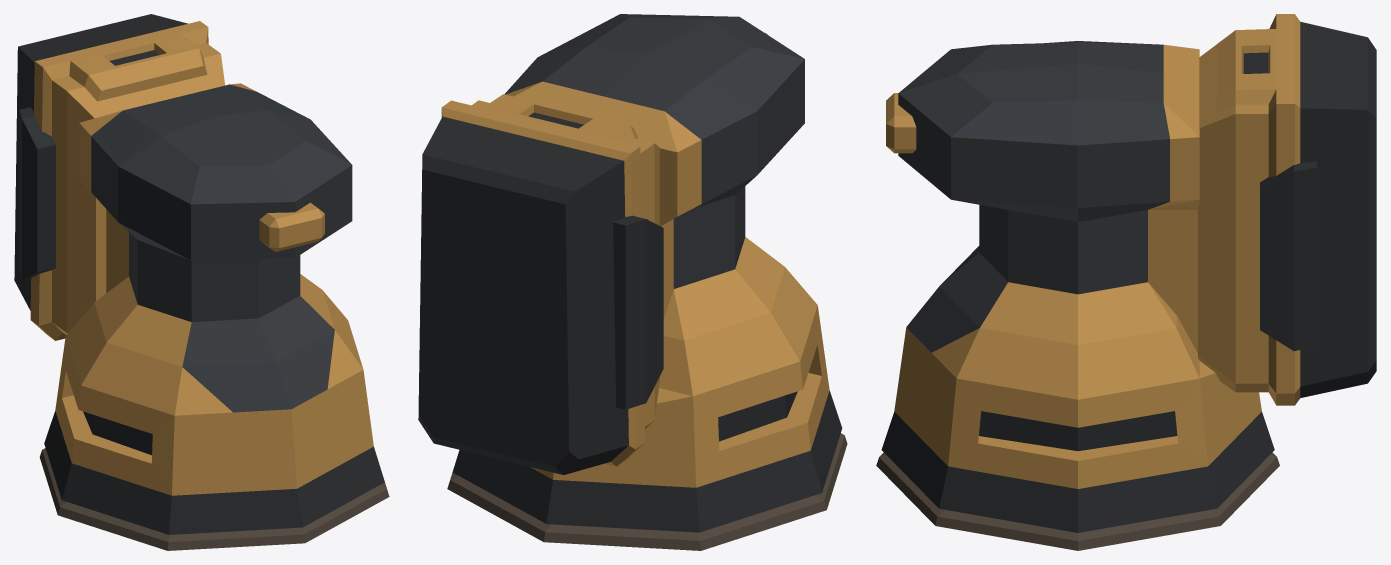
Rendered from SM_Tool_Orbital_Sander_01.fbx.
The picture shows the model from 3 angles, left to right: view 1: azimuth 30°, elevation 25°; view 2: azimuth 150°, elevation 25°; view 3: azimuth 270°, elevation 25°; orthographic projection. The views are drawn at different scales.
Parts seen in each view (by area): view 1: SM_Tool_Orbital_Sander_01, SM_Tool_Orbital_Sander_01_Battery; view 2: SM_Tool_Orbital_Sander_01, SM_Tool_Orbital_Sander_01_Battery; view 3: SM_Tool_Orbital_Sander_01, SM_Tool_Orbital_Sander_01_Battery.
Boxes of the visible parts, x1,y1,x2,y2 form: SM_Tool_Orbital_Sander_01: [39, 43, 389, 550]; SM_Tool_Orbital_Sander_01_Battery: [14, 14, 208, 340]; SM_Tool_Orbital_Sander_01: [447, 14, 847, 550]; SM_Tool_Orbital_Sander_01_Battery: [418, 94, 663, 474]; SM_Tool_Orbital_Sander_01: [876, 41, 1279, 550]; SM_Tool_Orbital_Sander_01_Battery: [1217, 14, 1376, 405].
Size of the model in its own units: 20.51 by 22.8 by 25.43.
